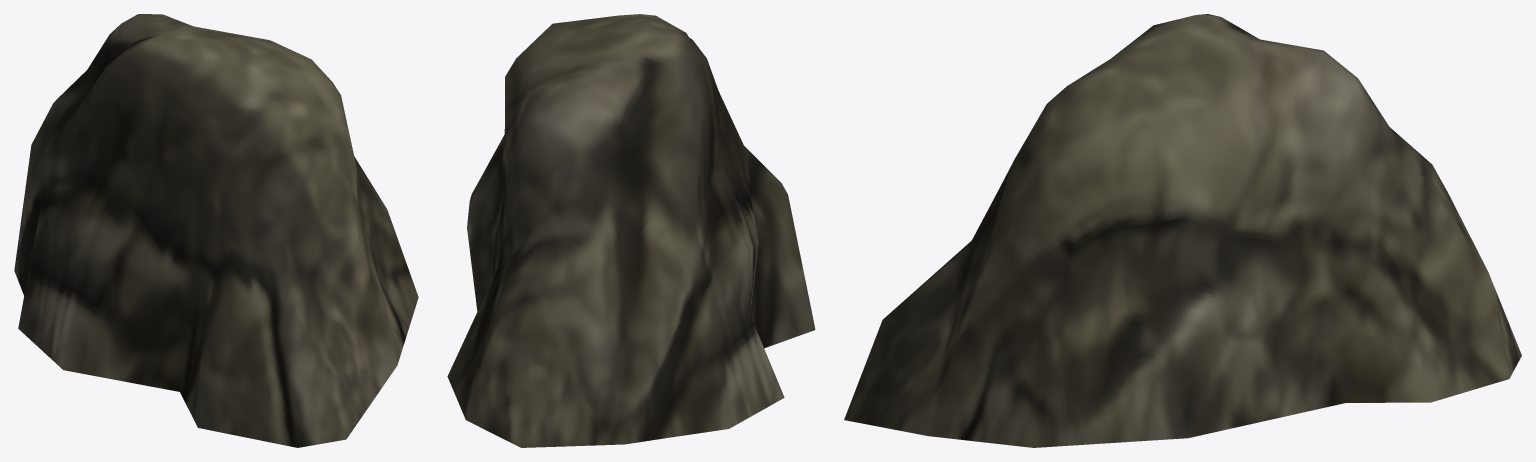
File: MEP_Cliff_15.fbx
3 renders of one model, left to right at view 1: azimuth 30°, elevation 25°; view 2: azimuth 150°, elevation 25°; view 3: azimuth 270°, elevation 25°, orthographic. The views are drawn at different scales.
Visible parts, largest first — view 1: MEP_Desert_Cliff_15; view 2: MEP_Desert_Cliff_15; view 3: MEP_Desert_Cliff_15.
Boxes of the visible parts, left/top/right/bottom form: MEP_Desert_Cliff_15: left=14, top=14, right=418, bottom=447; MEP_Desert_Cliff_15: left=447, top=14, right=815, bottom=447; MEP_Desert_Cliff_15: left=844, top=14, right=1521, bottom=447.
Size of what is drawn, in the model's own units: 85.49 by 88.27 by 138.
1 material, 1 textured.
